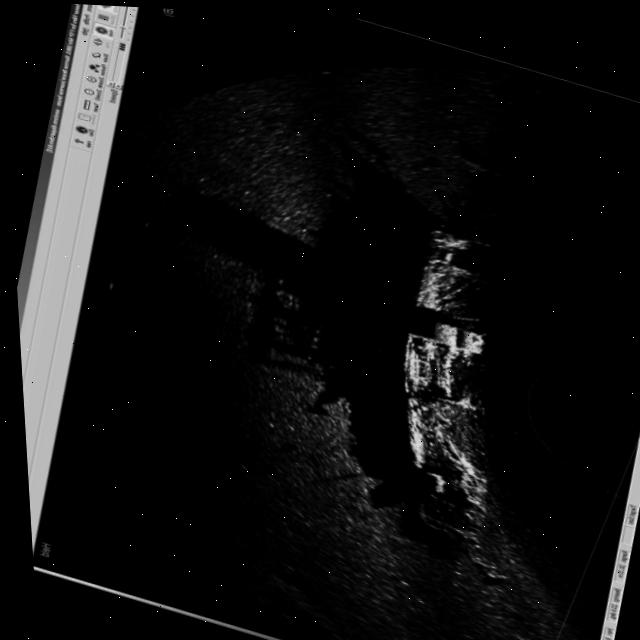shipwreck: (342, 208, 567, 556)
